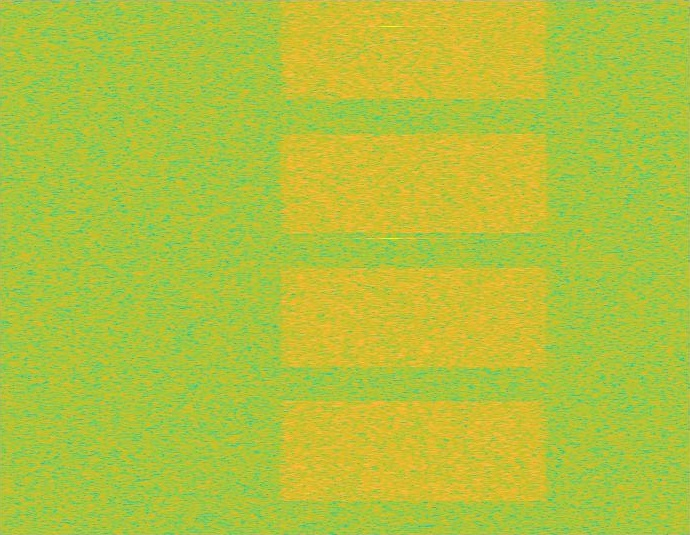5G: (276, 0, 552, 534)
Radar: (384, 0, 398, 534)
